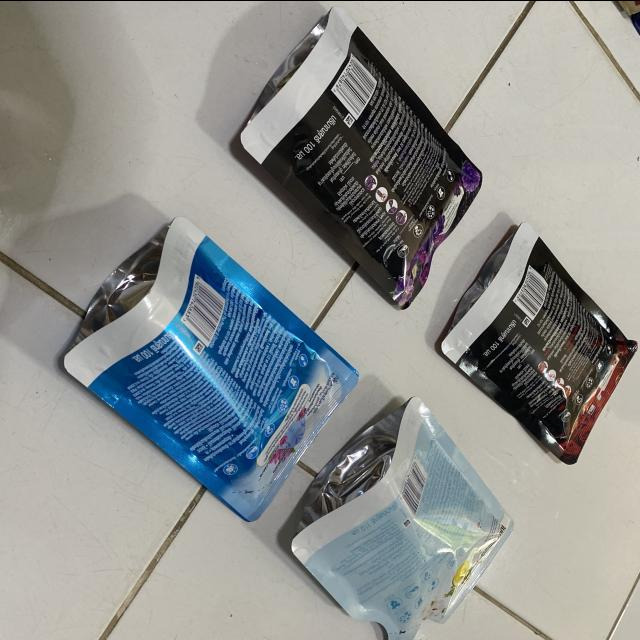plastik: (64, 217, 358, 520), (241, 6, 482, 307), (292, 396, 513, 640), (442, 222, 637, 463)
